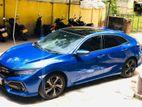car: (1, 27, 142, 99)
